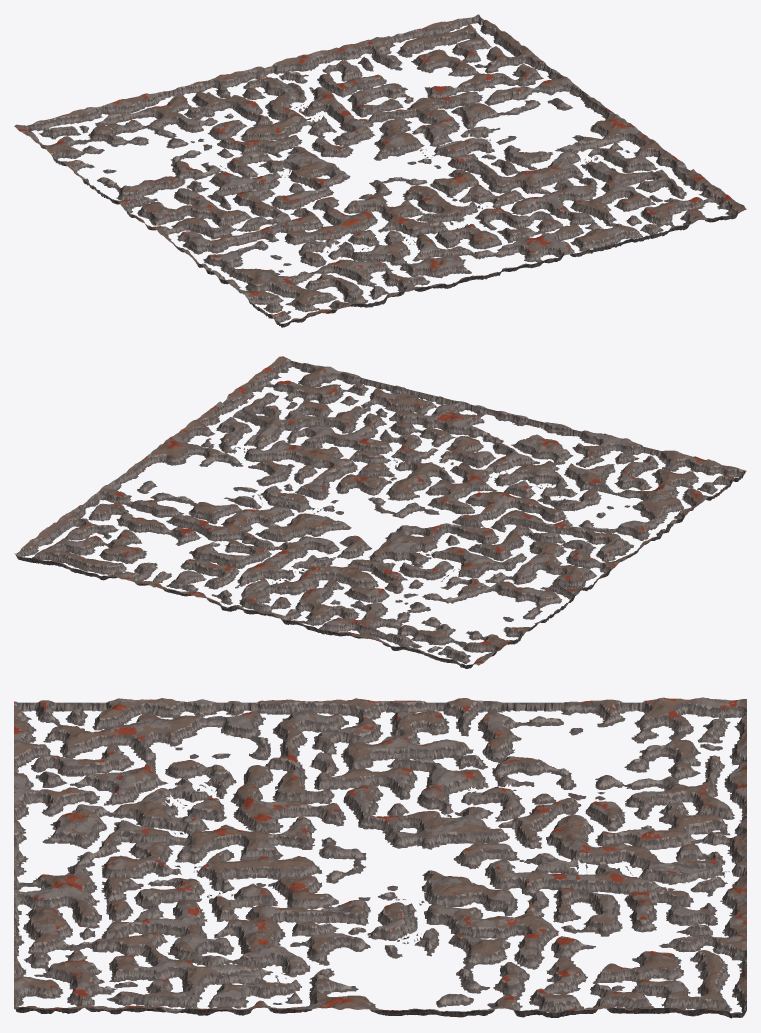
Rendered from Dungeon-3B-Relief.fbx.
3 renders of one model, top to bottom at view 1: azimuth 30°, elevation 25°; view 2: azimuth 150°, elevation 25°; view 3: azimuth 270°, elevation 25°, orthographic. The views are drawn at different scales.
Visible parts, largest first — view 1: Dungeon-3B-Relief-c77, Dungeon-3B-Relief-c27, Dungeon-3B-Relief-c61, Dungeon-3B-Relief-c51, Dungeon-3B-Relief-c17, Dungeon-3B-Relief-c47, Dungeon-3B-Relief-c22, Dungeon-3B-Relief-c42, Dungeon-3B-Relief-c67, Dungeon-3B-Relief-c65, Dungeon-3B-Relief-c54, Dungeon-3B-Relief-c13 (+52 smaller); view 2: Dungeon-3B-Relief-c70, Dungeon-3B-Relief-c77, Dungeon-3B-Relief-c13, Dungeon-3B-Relief-c36, Dungeon-3B-Relief-c50, Dungeon-3B-Relief-c23, Dungeon-3B-Relief-c62, Dungeon-3B-Relief-c03, Dungeon-3B-Relief-c27, Dungeon-3B-Relief-c46, Dungeon-3B-Relief-c52, Dungeon-3B-Relief-c20 (+51 smaller); view 3: Dungeon-3B-Relief-c01, Dungeon-3B-Relief-c03, Dungeon-3B-Relief-c61, Dungeon-3B-Relief-c36, Dungeon-3B-Relief-c14, Dungeon-3B-Relief-c62, Dungeon-3B-Relief-c31, Dungeon-3B-Relief-c41, Dungeon-3B-Relief-c07, Dungeon-3B-Relief-c10, Dungeon-3B-Relief-c21, Dungeon-3B-Relief-c50 (+52 smaller).
Boxes of the visible parts, x1,y1,x2,y2 form: Dungeon-3B-Relief-c77: [421, 14, 511, 56]; Dungeon-3B-Relief-c27: [130, 85, 215, 128]; Dungeon-3B-Relief-c61: [564, 174, 653, 220]; Dungeon-3B-Relief-c51: [510, 190, 594, 233]; Dungeon-3B-Relief-c17: [72, 98, 161, 143]; Dungeon-3B-Relief-c47: [247, 54, 332, 96]; Dungeon-3B-Relief-c22: [298, 211, 387, 248]; Dungeon-3B-Relief-c42: [414, 182, 500, 224]; Dungeon-3B-Relief-c67: [363, 28, 447, 70]; Dungeon-3B-Relief-c65: [430, 77, 510, 121]; Dungeon-3B-Relief-c54: [410, 118, 491, 158]; Dungeon-3B-Relief-c13: [206, 199, 297, 235]; Dungeon-3B-Relief-c70: [249, 356, 339, 400]; Dungeon-3B-Relief-c77: [14, 527, 95, 571]; Dungeon-3B-Relief-c13: [502, 516, 587, 557]; Dungeon-3B-Relief-c36: [280, 566, 371, 604]; Dungeon-3B-Relief-c50: [375, 386, 455, 427]; Dungeon-3B-Relief-c23: [438, 504, 529, 544]; Dungeon-3B-Relief-c62: [243, 419, 331, 462]; Dungeon-3B-Relief-c03: [559, 530, 645, 572]; Dungeon-3B-Relief-c27: [305, 605, 390, 638]; Dungeon-3B-Relief-c46: [222, 547, 312, 586]; Dungeon-3B-Relief-c52: [301, 435, 382, 476]; Dungeon-3B-Relief-c20: [538, 429, 630, 467]; Dungeon-3B-Relief-c01: [104, 698, 197, 748]; Dungeon-3B-Relief-c03: [287, 698, 380, 748]; Dungeon-3B-Relief-c61: [104, 933, 197, 980]; Dungeon-3B-Relief-c36: [563, 815, 656, 864]; Dungeon-3B-Relief-c14: [379, 737, 473, 787]; Dungeon-3B-Relief-c62: [196, 931, 290, 981]; Dungeon-3B-Relief-c31: [104, 816, 197, 864]; Dungeon-3B-Relief-c41: [104, 855, 197, 903]; Dungeon-3B-Relief-c07: [654, 697, 746, 748]; Dungeon-3B-Relief-c10: [14, 738, 106, 786]; Dungeon-3B-Relief-c21: [104, 775, 197, 825]; Dungeon-3B-Relief-c50: [14, 892, 105, 941].
Bounding box in the file's own units: 132 × 2.81 × 132.
